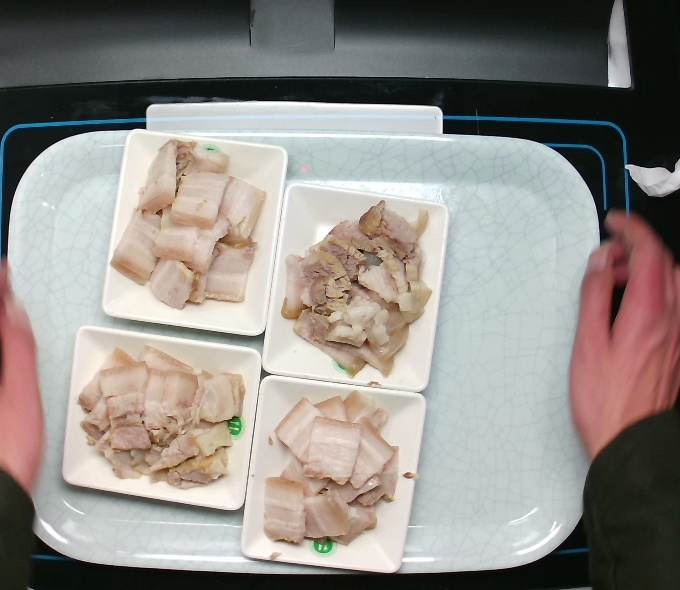wcq-BaiQieRou: (278, 207, 422, 379), (260, 383, 404, 555), (113, 142, 260, 307), (79, 344, 242, 486)
